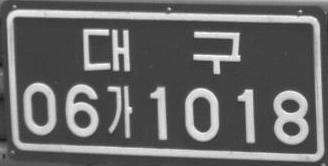0: (183, 86, 219, 141), (22, 82, 57, 135)
1: (230, 88, 266, 143), (144, 84, 177, 140)
6: (64, 83, 99, 137)
8: (272, 89, 309, 145)
가: (106, 85, 133, 137)
대구_D: (83, 28, 241, 74)
